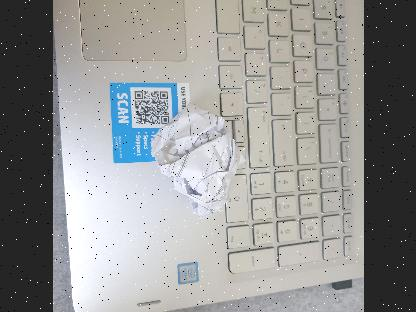Others: (142, 101, 248, 222)
